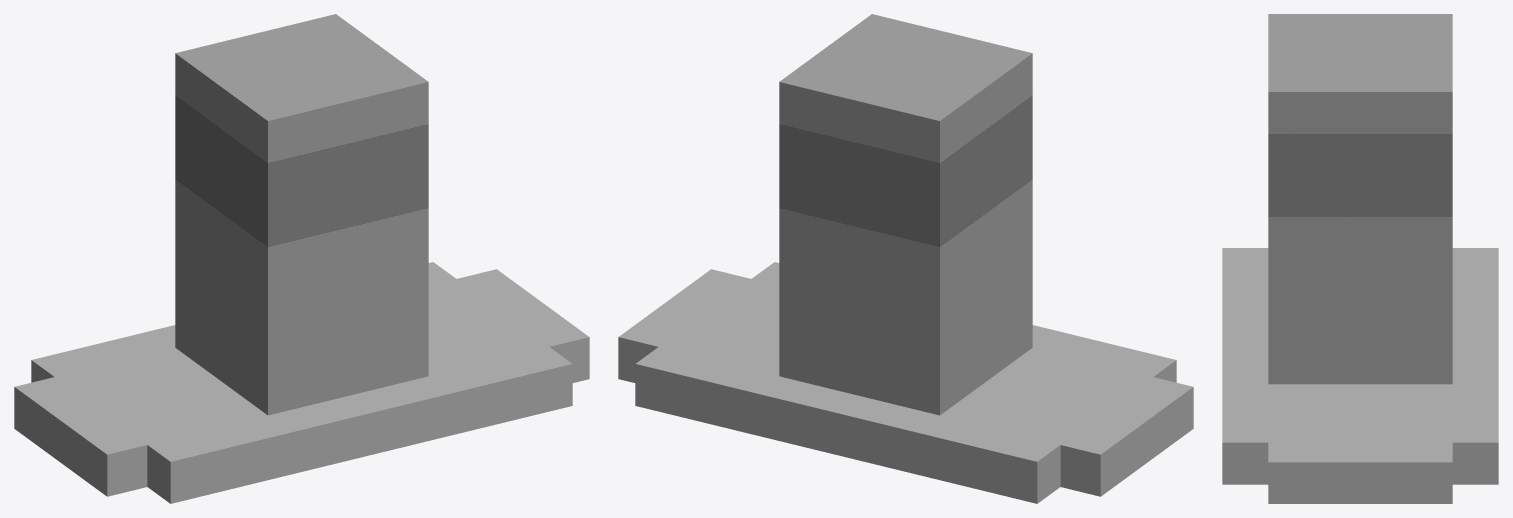
File: obj_armgate2.fbx
The picture shows the model from 3 angles, left to right: view 1: azimuth 30°, elevation 25°; view 2: azimuth 150°, elevation 25°; view 3: azimuth 270°, elevation 25°; orthographic projection.
Visible parts, largest first — view 1: obj_armgate2; view 2: obj_armgate2; view 3: obj_armgate2.
Part boxes in pixels (left/top/right/bottom): obj_armgate2: left=14, top=14, right=589, bottom=503; obj_armgate2: left=618, top=14, right=1193, bottom=503; obj_armgate2: left=1222, top=14, right=1498, bottom=503.
Size of the model in its own units: 1.2 by 0.6 by 0.8.
1 material, 1 textured.
